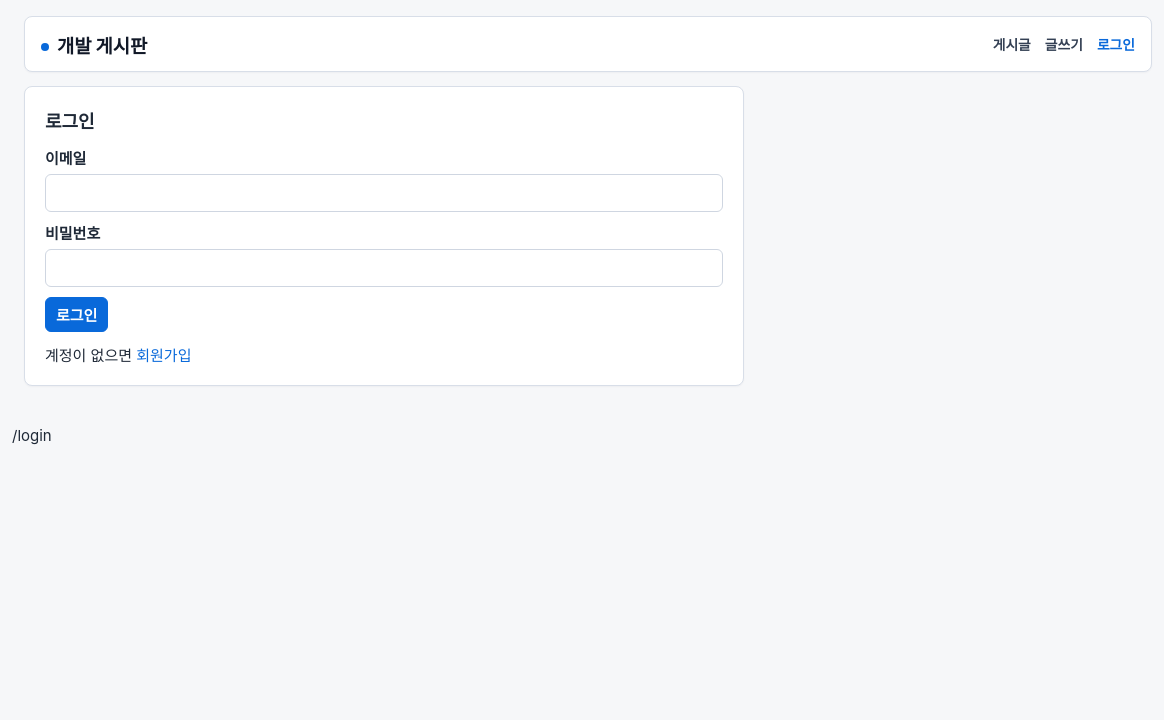
인증 폼 › 로그인 필수값 유효성 메시지를 보여준다
Click the button "로그인": click(77, 314) [45,297,108,332]
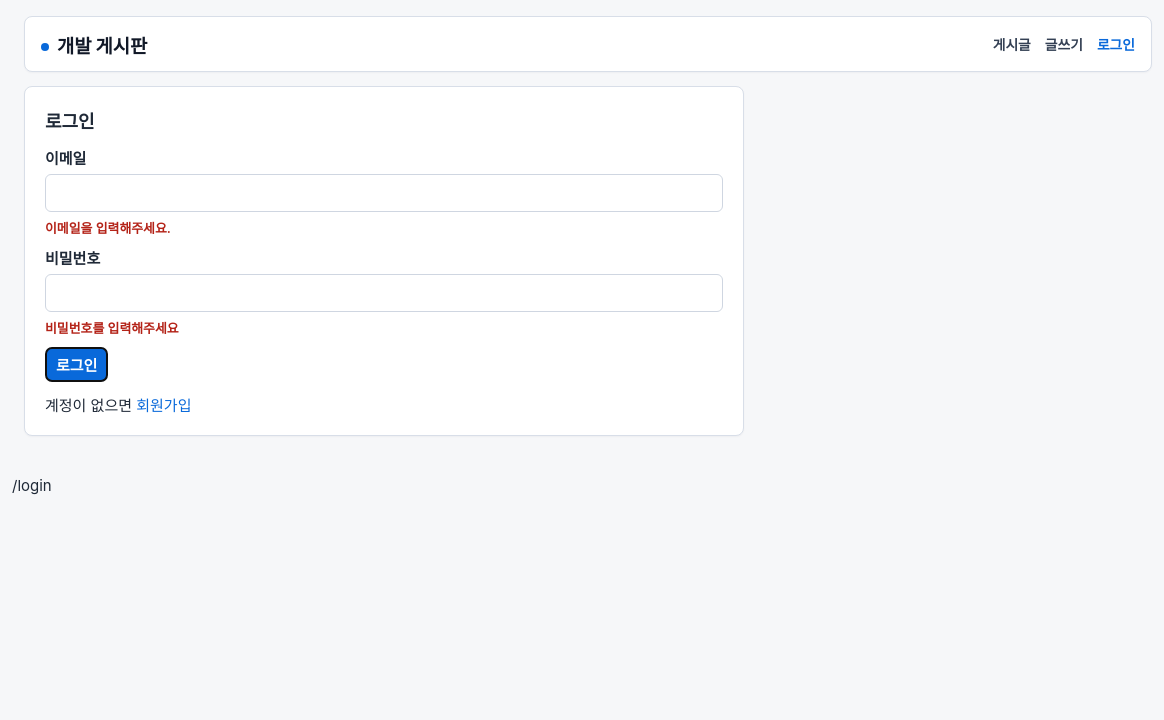
Check: the text "이메일을 입력해주세요." is shown, box [45,221,171,236]
Check: the text "비밀번호를 입력해주세요" is shown, box [45,321,179,336]
